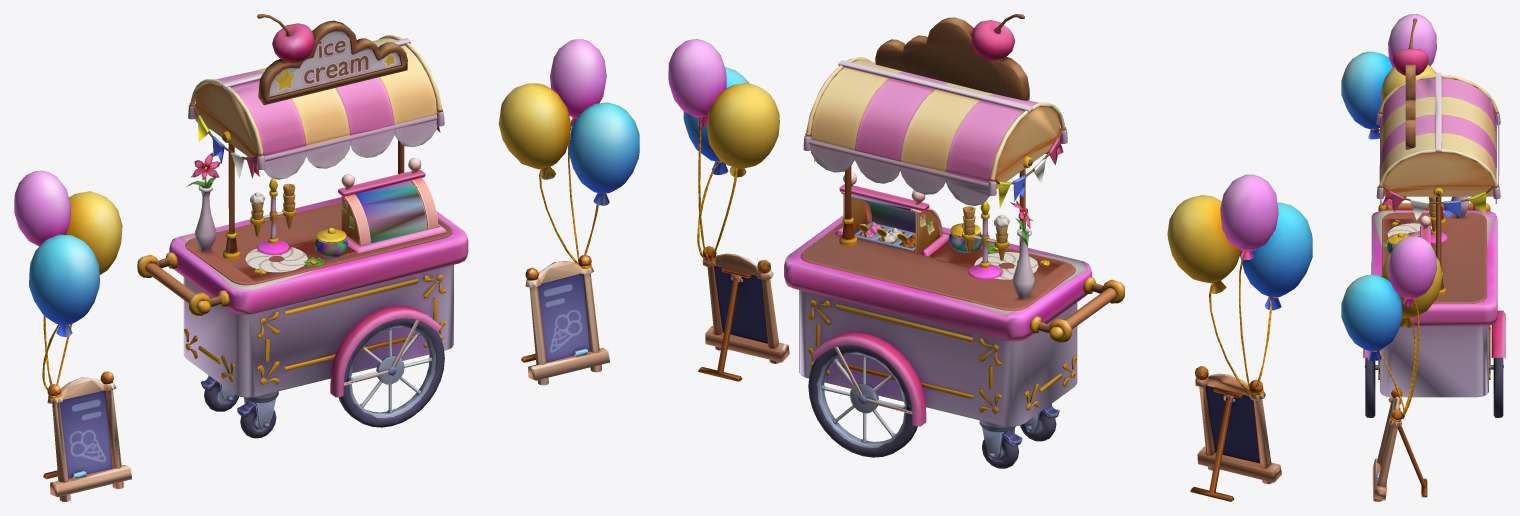
The model's file is icecream shop.fbx.
The picture shows the model from 3 angles, left to right: view 1: azimuth 30°, elevation 25°; view 2: azimuth 150°, elevation 25°; view 3: azimuth 270°, elevation 25°; orthographic projection. The views are drawn at different scales.
Parts seen in each view (by area): view 1: glass_t_glass_0, ice_billboard_mat_billboard.001_0, ice_billboard_mat_billboard.001_0.001; view 2: glass_t_glass_0, ice_billboard_mat_billboard.001_0.001, ice_billboard_mat_billboard.001_0; view 3: glass_t_glass_0, ice_billboard_mat_billboard.001_0, ice_billboard_mat_billboard.001_0.001.
Part boxes in pixels (x1,y1,x2,y2): glass_t_glass_0: (137, 14, 468, 438); ice_billboard_mat_billboard.001_0: (498, 39, 639, 385); ice_billboard_mat_billboard.001_0.001: (14, 170, 131, 501); glass_t_glass_0: (784, 14, 1124, 468); ice_billboard_mat_billboard.001_0.001: (1167, 174, 1312, 501); ice_billboard_mat_billboard.001_0: (668, 39, 789, 381); glass_t_glass_0: (1363, 18, 1505, 417); ice_billboard_mat_billboard.001_0: (1341, 236, 1442, 501); ice_billboard_mat_billboard.001_0.001: (1341, 14, 1436, 203).
Bounding box in the file's own units: 497 × 329 × 139.
